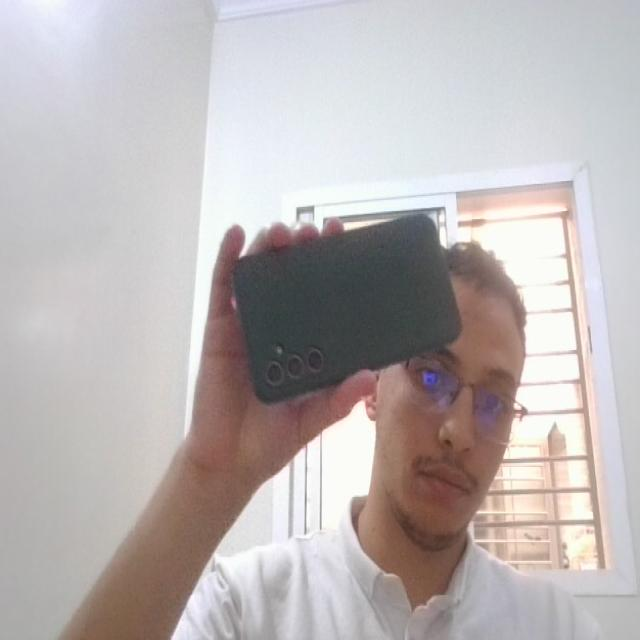phone: (227, 204, 467, 412)
